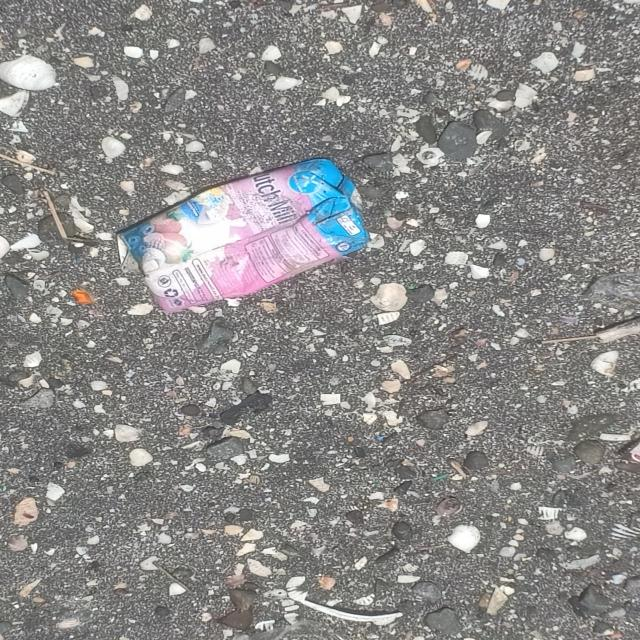cardboard_waste: (119, 157, 373, 311)
